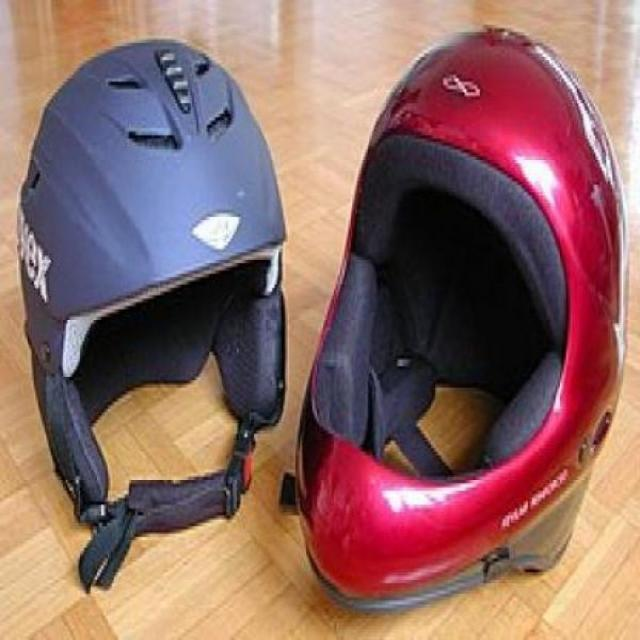Helmet: (319, 26, 621, 596), (23, 40, 278, 524)
